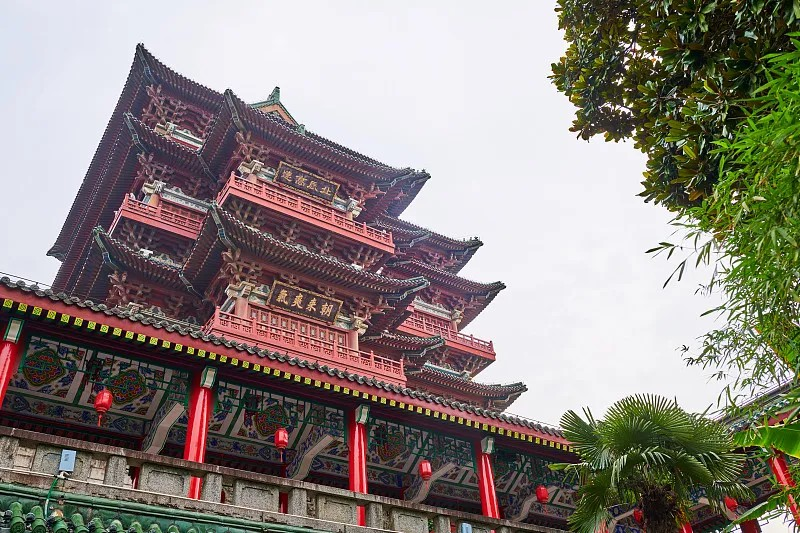Teng: (1, 44, 569, 533)
